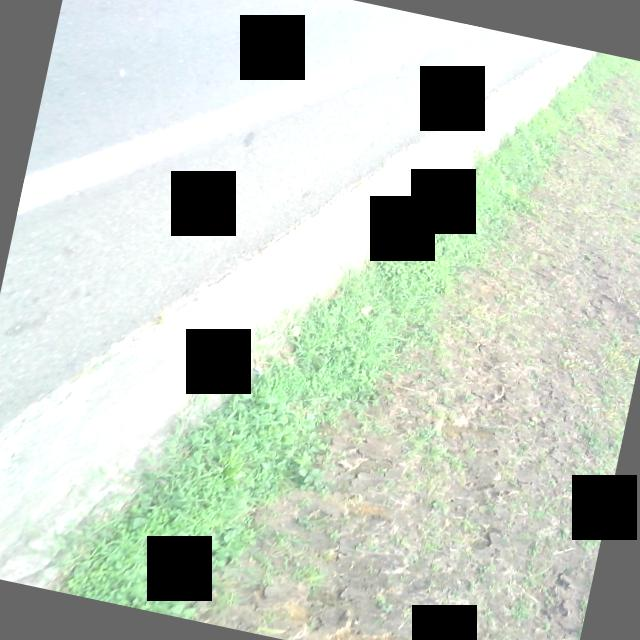DITCH: (0, 0, 640, 640), (0, 0, 596, 640)
